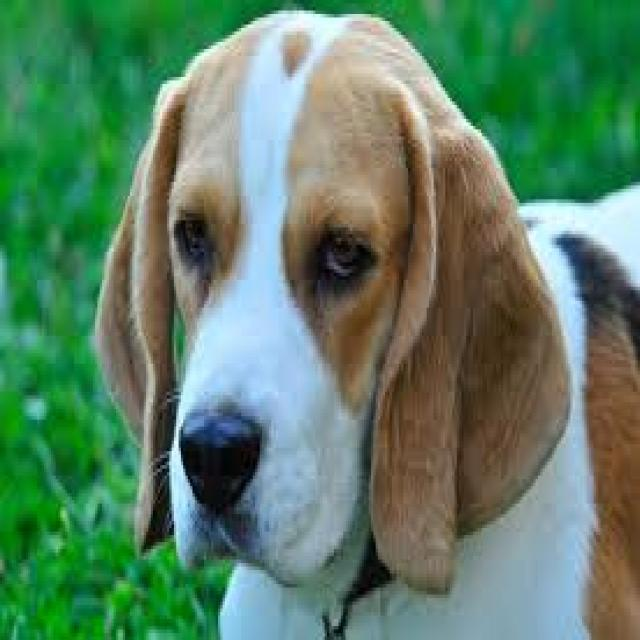Dog: (87, 5, 640, 639)
